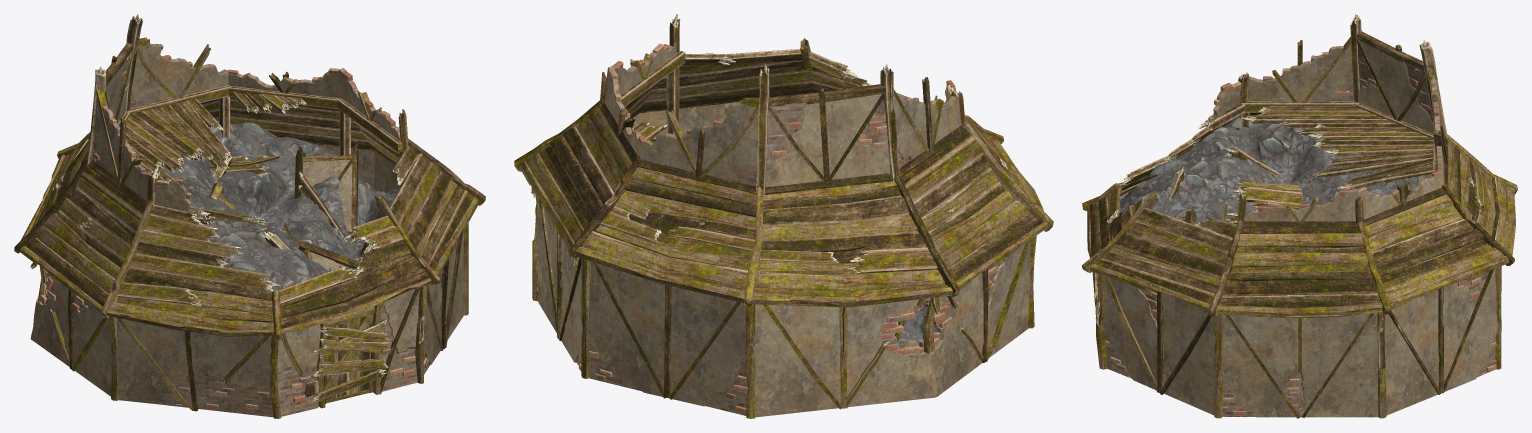
The picture shows the model from 3 angles, left to right: view 1: azimuth 30°, elevation 25°; view 2: azimuth 150°, elevation 25°; view 3: azimuth 270°, elevation 25°; orthographic projection. The views are drawn at different scales.
Parts seen in each view (by area): view 1: SM_Windmill_01v3_Top_LOD0; view 2: SM_Windmill_01v3_Top_LOD0; view 3: SM_Windmill_01v3_Top_LOD0.
Boxes of the visible parts, box(x1,y1,x2,y2) form: SM_Windmill_01v3_Top_LOD0: box(14, 14, 485, 418); SM_Windmill_01v3_Top_LOD0: box(514, 14, 1053, 418); SM_Windmill_01v3_Top_LOD0: box(1082, 14, 1517, 418).
Size of the model in its own units: 11.17 by 7.72 by 11.16.
Materials: 5 (5 with a texture image).
